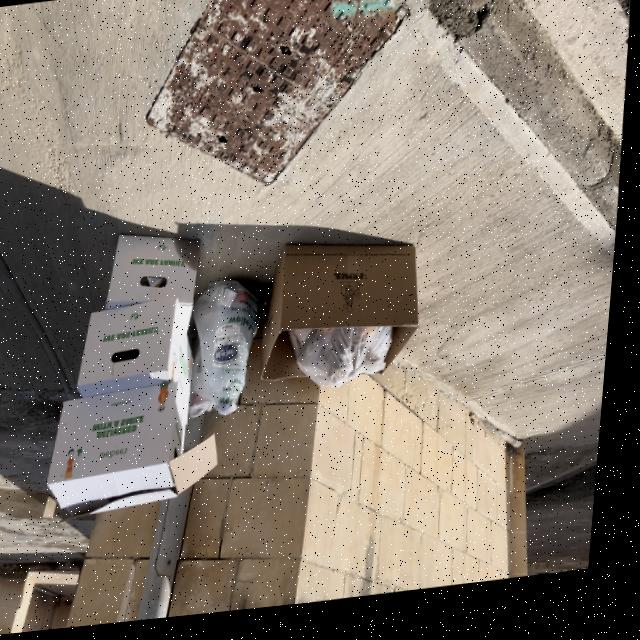Other: (263, 236, 432, 395), (51, 379, 233, 524), (79, 300, 205, 439), (107, 228, 208, 348)
Recycled Waste -Grey or Green Bag-: (193, 281, 268, 424), (291, 321, 401, 398)
